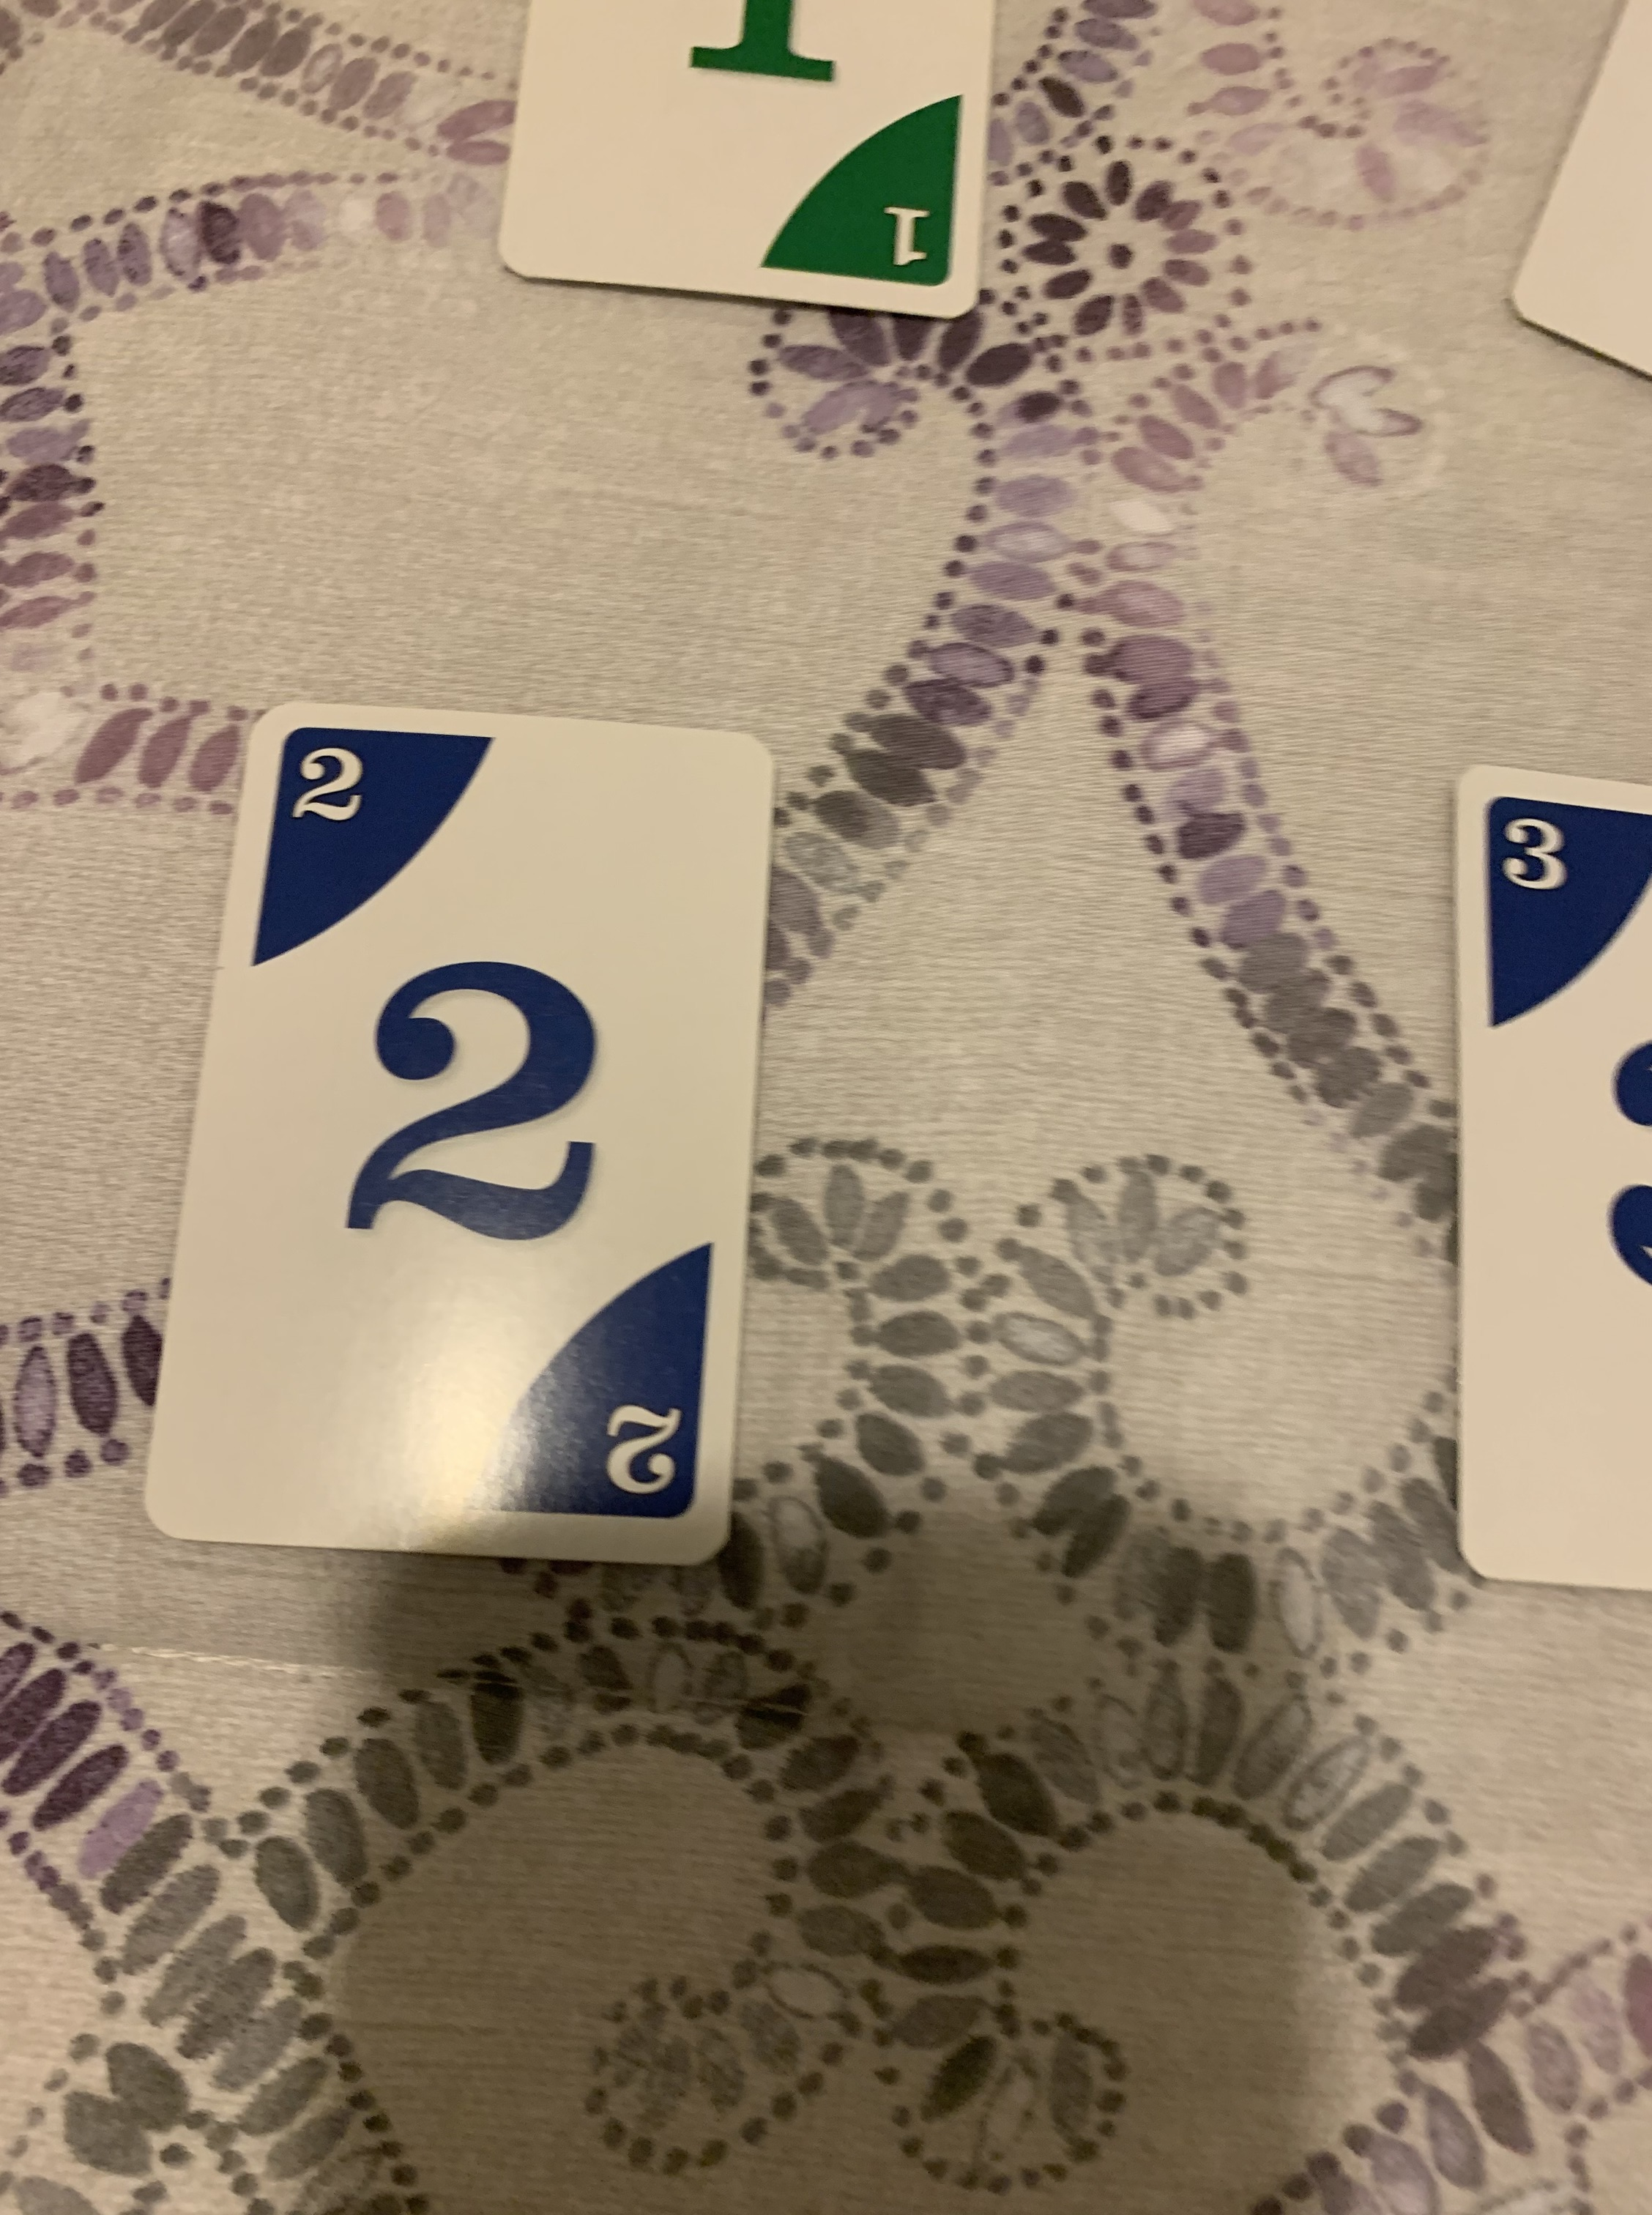two: (132, 700, 776, 1578)
